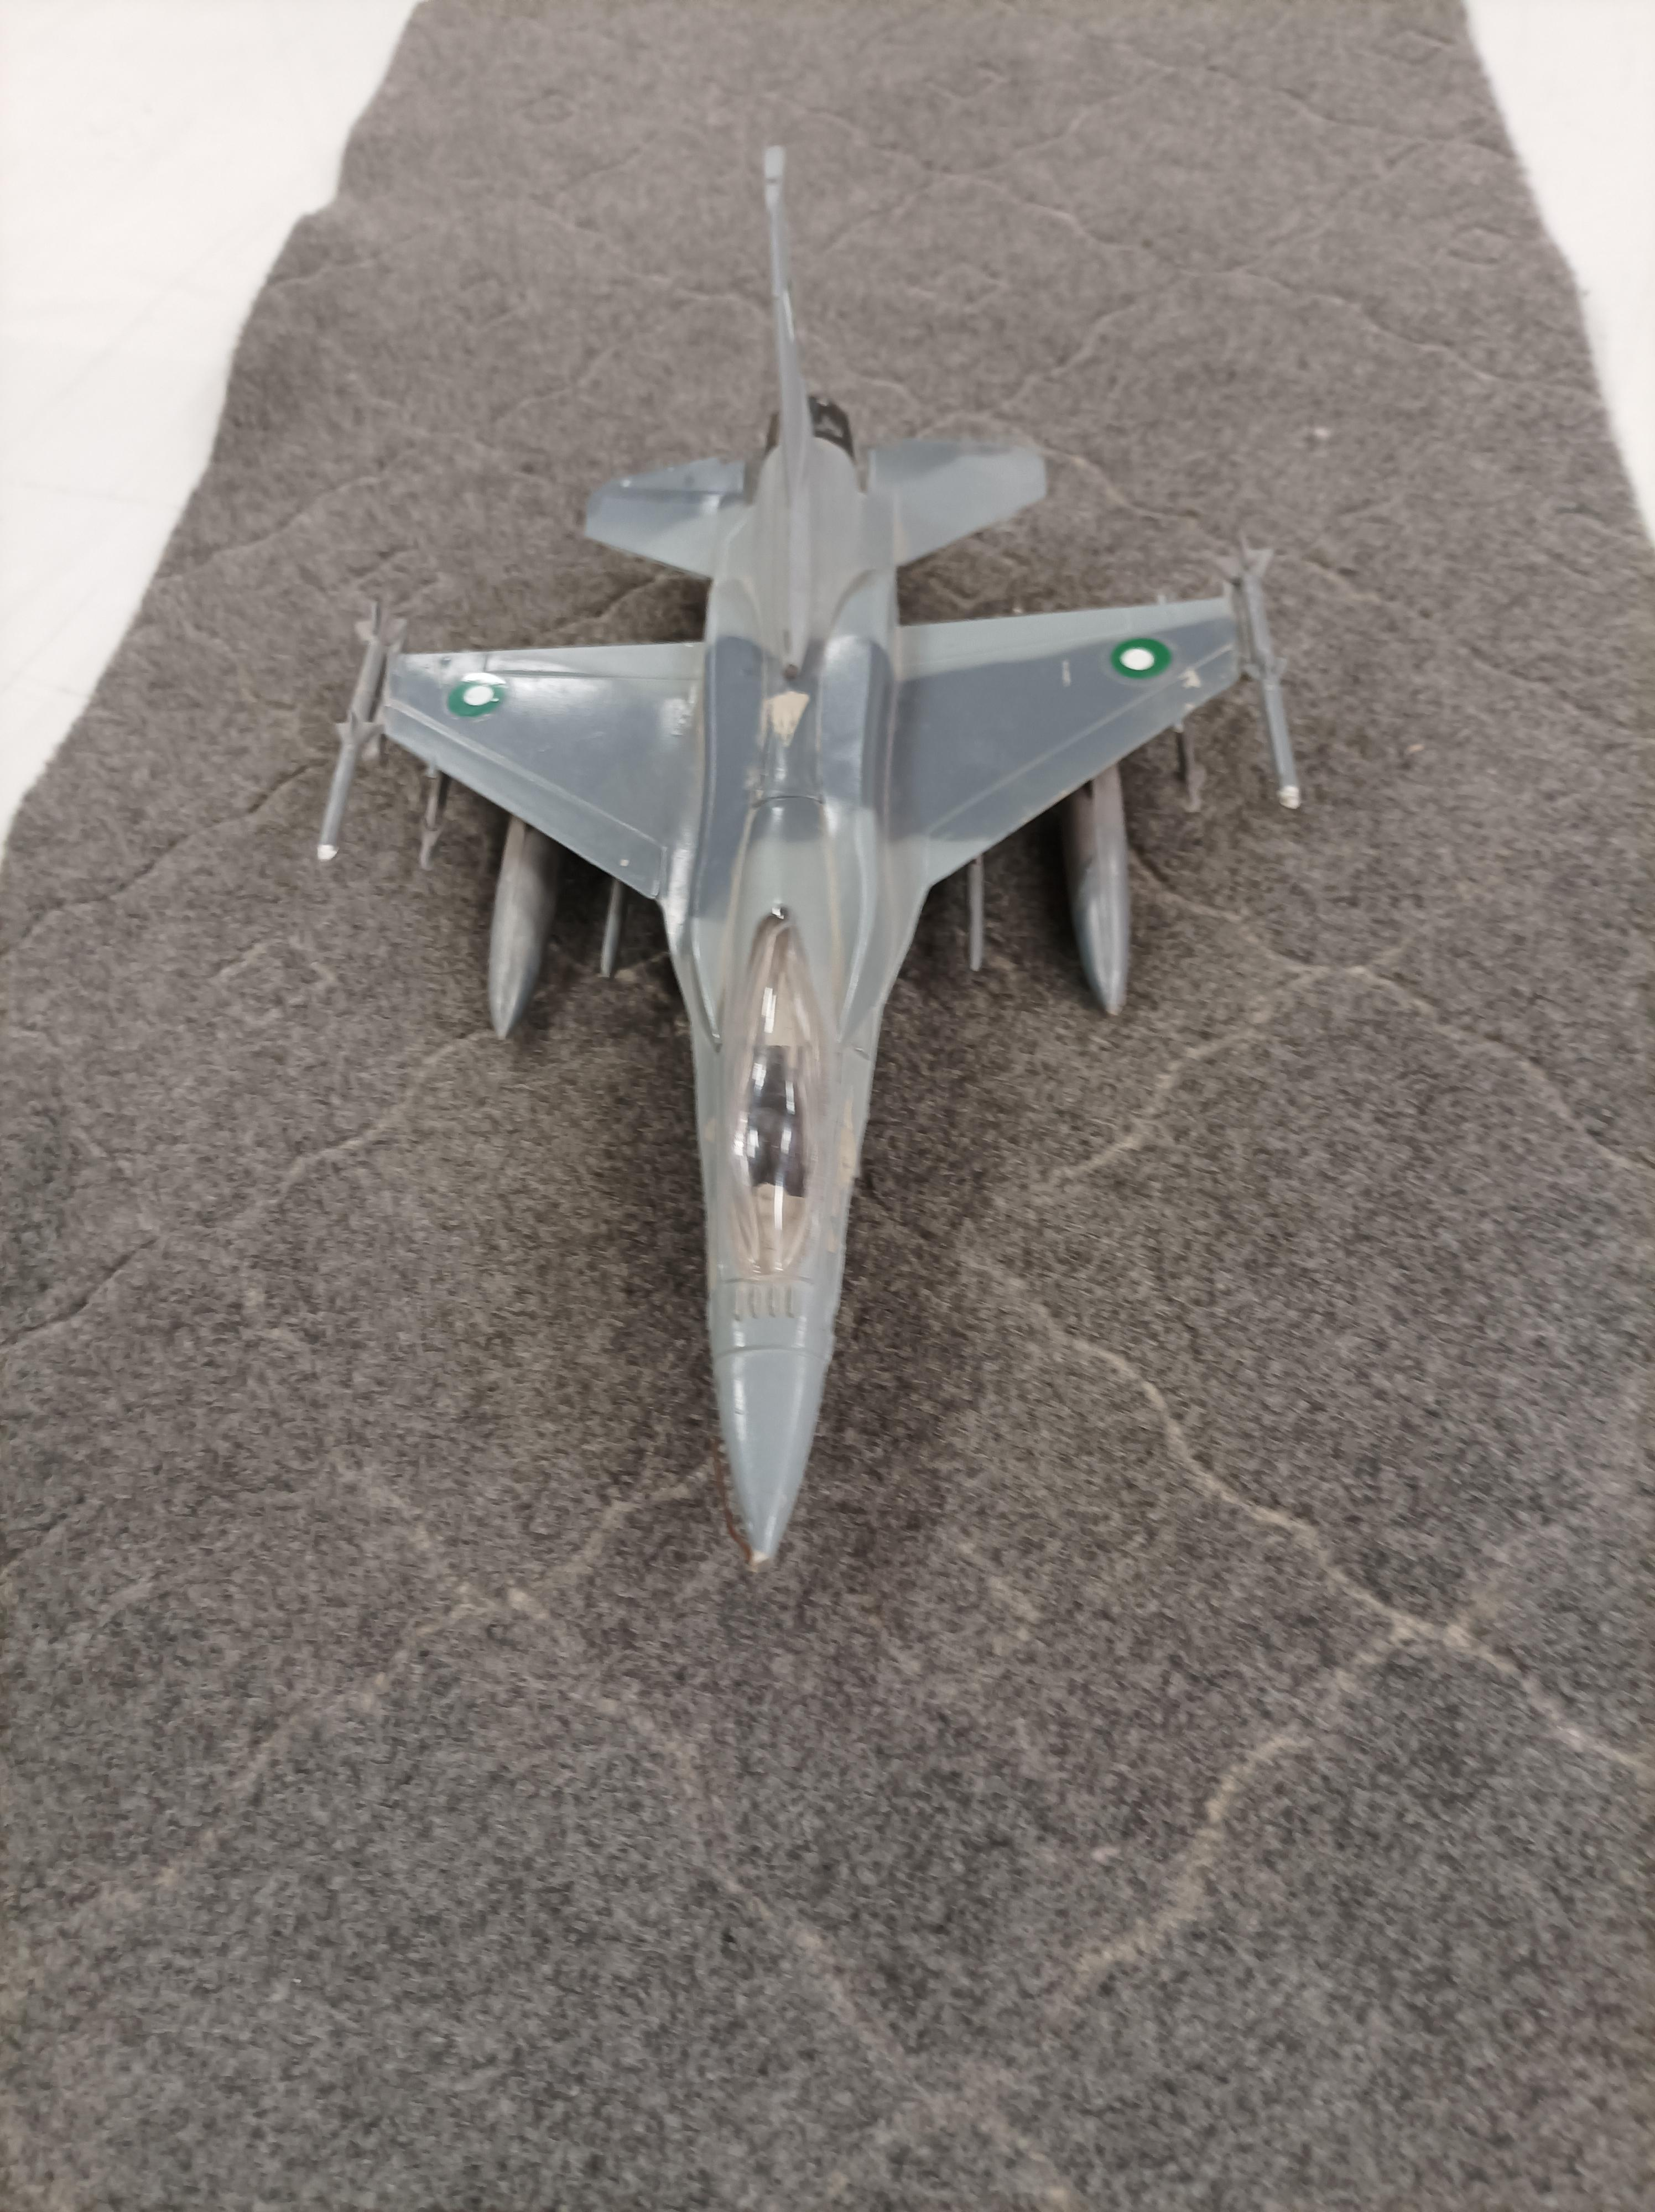Airplane: (299, 122, 1325, 1600)
